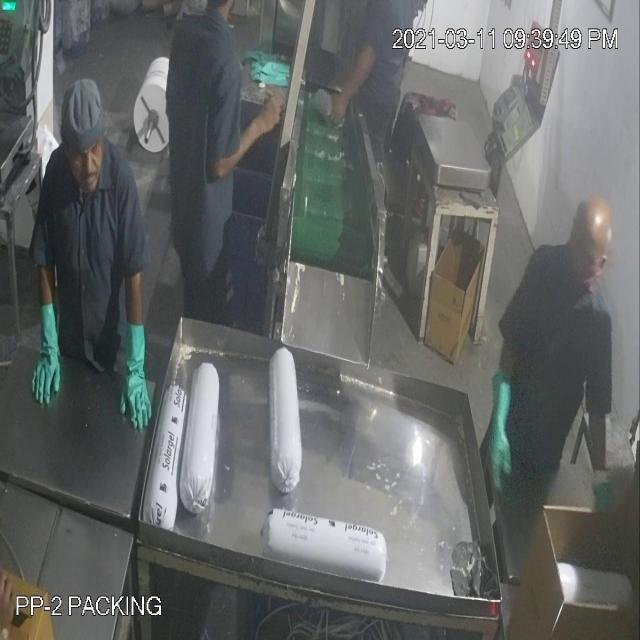No_Gloves: (38, 84, 499, 434)
